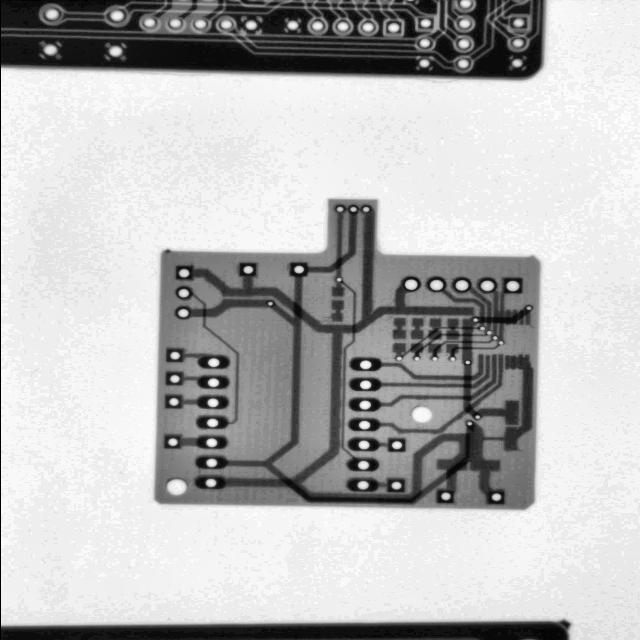Both: (343, 476, 379, 493), (196, 353, 230, 370), (344, 456, 380, 472), (473, 274, 498, 297), (347, 396, 380, 413), (347, 356, 382, 372), (195, 394, 229, 410), (345, 436, 379, 452), (192, 474, 225, 490), (195, 414, 228, 430), (423, 273, 447, 295), (348, 376, 381, 392), (195, 374, 230, 389), (346, 417, 381, 432), (193, 455, 227, 470), (195, 434, 229, 449), (409, 405, 433, 426), (172, 283, 194, 303), (449, 275, 472, 294), (482, 488, 506, 506), (171, 303, 193, 322), (500, 277, 522, 294), (165, 479, 186, 496), (400, 277, 421, 293), (163, 433, 182, 450), (174, 264, 194, 280), (163, 393, 183, 409), (165, 347, 185, 363), (434, 489, 455, 504), (385, 477, 404, 493), (164, 371, 183, 386), (387, 437, 406, 452), (237, 262, 256, 276), (288, 262, 307, 276), (344, 202, 360, 217), (462, 417, 476, 431), (331, 203, 347, 215), (521, 302, 534, 314), (358, 203, 372, 214), (264, 298, 276, 310), (470, 411, 482, 423), (469, 315, 479, 325), (332, 276, 343, 284), (392, 354, 403, 362), (461, 358, 472, 366), (476, 325, 486, 332), (411, 355, 420, 362), (483, 329, 492, 336), (428, 355, 438, 361), (446, 356, 456, 362), (496, 339, 504, 346), (489, 335, 498, 341)
L1: (189, 200, 491, 523), (446, 345, 560, 500), (378, 338, 517, 460), (377, 354, 500, 408), (381, 354, 490, 392), (381, 354, 484, 384), (439, 279, 494, 328), (189, 291, 267, 322), (460, 283, 504, 332), (331, 213, 344, 297), (476, 400, 518, 425), (461, 319, 472, 360), (497, 291, 506, 341), (490, 290, 498, 335), (391, 318, 405, 340), (409, 318, 423, 340), (427, 318, 441, 340), (330, 300, 343, 322), (445, 318, 458, 340), (391, 343, 405, 355), (426, 343, 440, 355), (409, 343, 423, 355), (445, 344, 457, 356), (184, 353, 204, 359), (182, 438, 196, 446), (524, 309, 530, 325), (182, 399, 196, 405), (505, 309, 510, 325), (512, 309, 517, 325), (518, 309, 523, 325), (183, 376, 198, 381), (378, 441, 387, 448), (378, 482, 386, 488)
L2: (170, 272, 489, 586), (184, 285, 261, 426), (295, 210, 375, 285), (396, 314, 477, 357), (339, 281, 356, 458), (410, 321, 486, 356), (430, 331, 492, 356), (457, 365, 476, 417), (449, 340, 500, 356)
